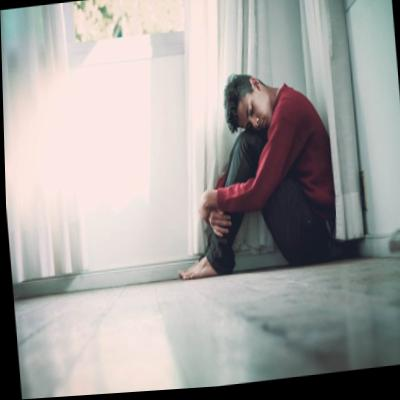sad: (235, 87, 271, 134)
